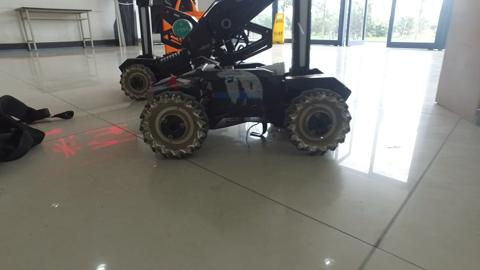chariot: (143, 1, 355, 156)
